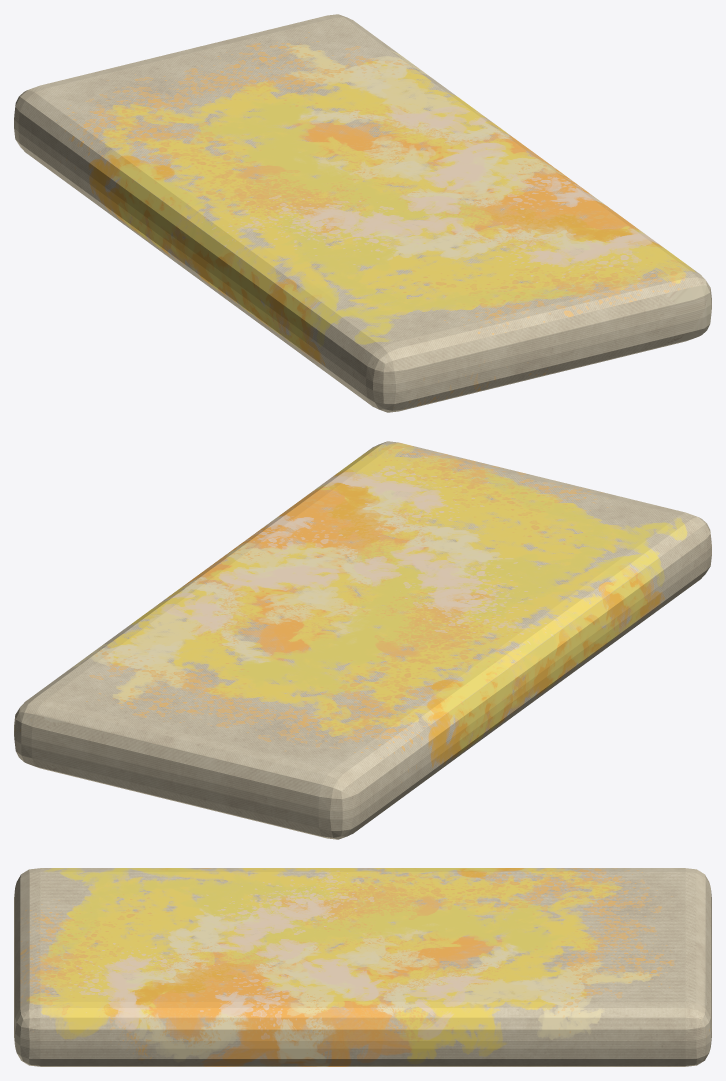
The model's file is materac.obj.
The picture shows the model from 3 angles, top to bottom: view 1: azimuth 30°, elevation 25°; view 2: azimuth 150°, elevation 25°; view 3: azimuth 270°, elevation 25°; orthographic projection. The views are drawn at different scales.
Visible parts, largest first — view 1: Cube.030; view 2: Cube.030; view 3: Cube.030.
Part boxes in pixels (x1,y1,x2,y2): Cube.030: (14,14,711,412); Cube.030: (14,441,711,839); Cube.030: (14,868,711,1066).
Bounding box in the file's own units: 0.9901 × 0.1817 × 1.89.
Materials: 1 (1 with a texture image).
